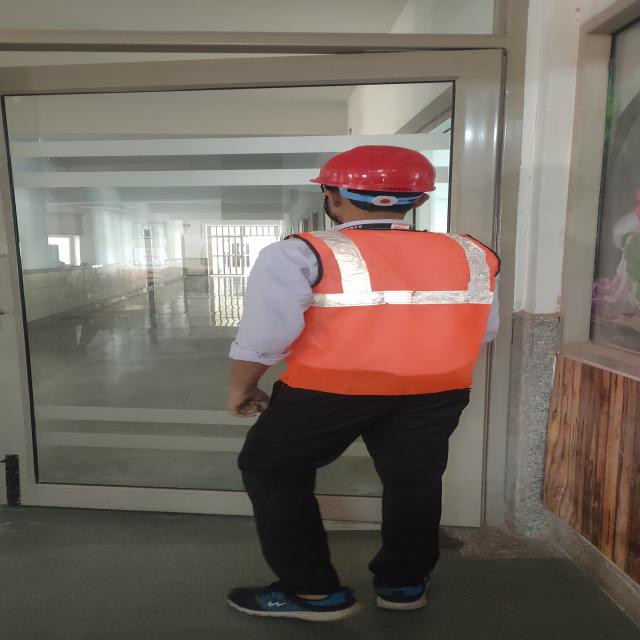safe: (229, 146, 501, 619)
